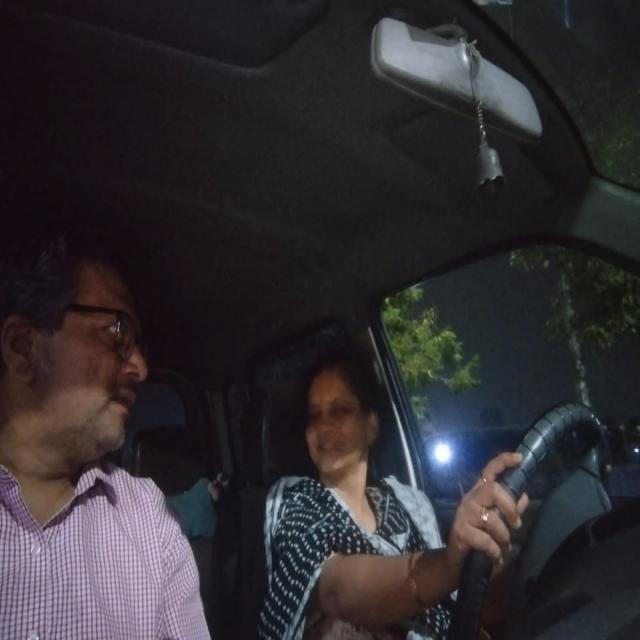LeftRight: (300, 339, 395, 500)
person: (5, 235, 162, 500)
talking: (102, 372, 146, 440), (310, 431, 350, 469)
